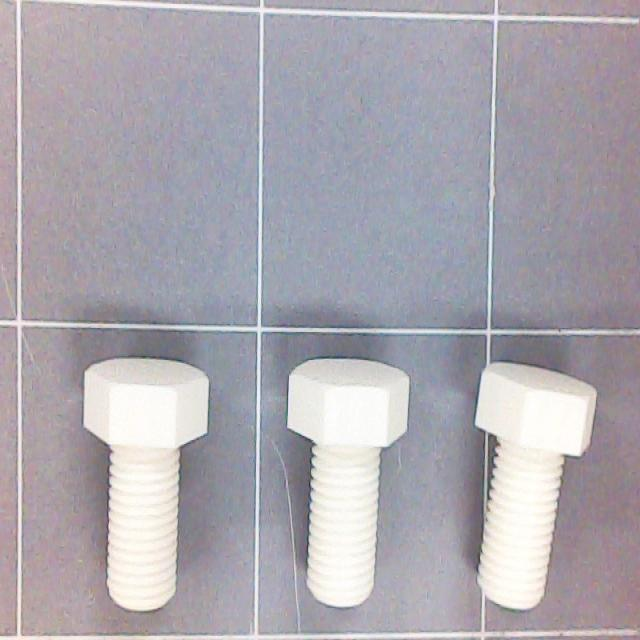bolts: (447, 360, 599, 616), (283, 358, 409, 608), (84, 357, 208, 611)
